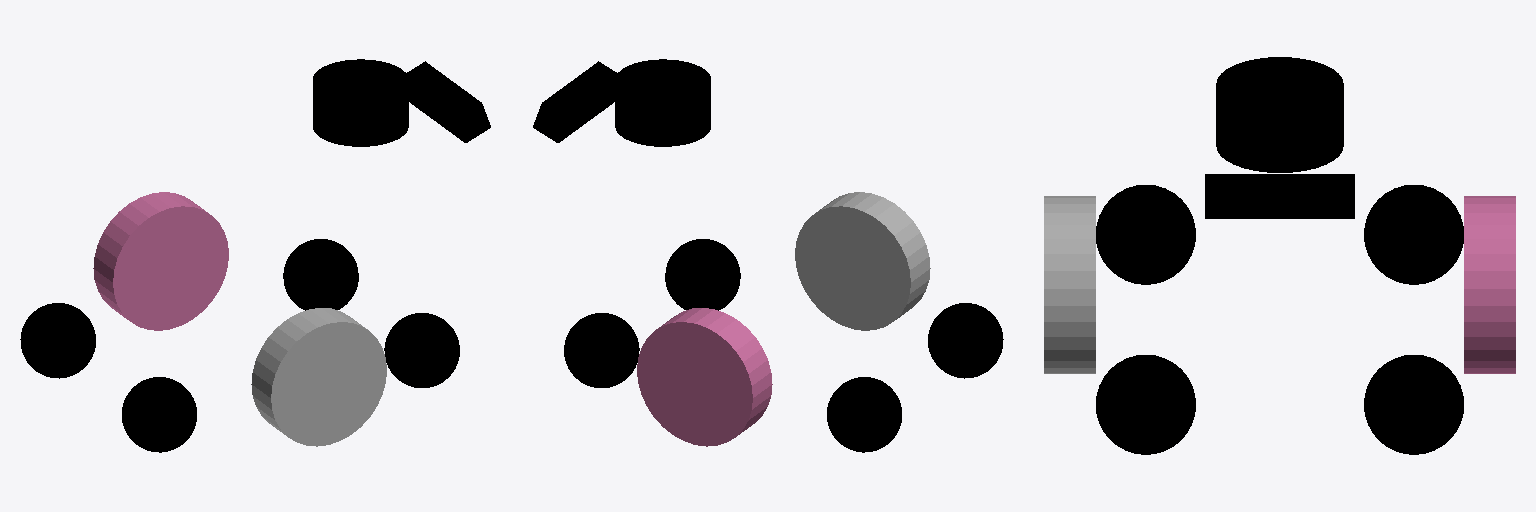
The robot description file, URDF, robot "qrb_robot_base_mini":
<?xml version="1.0" ?>
<!-- =================================================================================== -->
<!-- |    This document was autogenerated by xacro from /tmp/x.xacro                   | -->
<!-- |    EDITING THIS FILE BY HAND IS NOT RECOMMENDED                                 | -->
<!-- =================================================================================== -->
<!-- Qualcomm's QRB robot base mini (qrb_ros_simulation, BSD-3-Clause) for the MoveIt Pro Simulator.
     The Gazebo diff-drive and sensor blocks are replaced by MujocoSystem and diff_drive_controller. -->
<robot name="qrb_robot_base_mini">
  <mujoco>
    <option integrator="implicitfast"/>
    <compiler fusestatic="false" discardvisual="false"/>
  </mujoco>
  <material name="white">
    <color rgba="1 1 1 1"/>
  </material>
  <material name="black">
    <color rgba="0 0 0 1"/>
  </material>
  <material name="transparent">
    <color rgba="0 0 0 0"/>
  </material>
  <link name="base_footprint"/>
  <link name="base_link">
    <visual>
      <origin rpy="0 0 -1.5707963267948966" xyz="0 0 -0.07"/>
      <geometry>
        <mesh filename="package://qrb_amr_nav_sim/description/assets/wheelTec_AMR_mini.STL" scale="0.001 0.001 0.001"/>
      </geometry>
      <material name="white"/>
    </visual>
    <inertial name="base_link_inertial">
      <mass value="16.5"/>
      <inertia ixx="0.20886249999999998" ixy="0" ixz="0" iyy="0.20886249999999998" iyz="0" izz="0.36382499999999995"/>
    </inertial>
    <collision name="base_link_collision">
      <origin rpy="0 0 0" xyz="0 0 0"/>
      <geometry>
        <cylinder length="0.14" radius="0.21"/>
      </geometry>
    </collision>
  </link>
  <joint name="base_link_joint" type="fixed">
    <parent link="base_footprint"/>
    <child link="base_link"/>
    <origin xyz="0 0 0.101"/>
  </joint>
  <link name="laser">
    <visual>
      <origin rpy="0 0 3.141592653589793" xyz="0 0 0"/>
      <geometry>
        <cylinder length="0.041" radius="0.038"/>
      </geometry>
      <material name="transparent"/>
    </visual>
    <inertial>
      <mass value="0.3"/>
      <inertia ixx="0.00015032499999999998" ixy="0" ixz="0" iyy="0.00015032499999999998" iyz="0" izz="0.00021659999999999998"/>
    </inertial>
    <collision>
      <origin rpy="0 0 3.141592653589793" xyz="0 0 0"/>
      <geometry>
        <cylinder length="0.041" radius="0.038"/>
      </geometry>
    </collision>
  </link>
  <joint name="laser_joint" type="fixed">
    <parent link="base_link"/>
    <child link="laser"/>
    <origin rpy="0 0 0" xyz="0.11 0 0.11499999999999999"/>
  </joint>
  <link name="base_camera_link">
    <visual>
      <origin rpy="0 0 1.5707963267948966" xyz="0 0 0"/>
      <geometry>
        <box size="0.09 0.025 0.025"/>
      </geometry>
      <material name="transparent"/>
    </visual>
    <inertial>
      <mass value="0.01"/>
      <inertia ixx="1.0416666666666668e-05" ixy="0" ixz="0" iyy="7.270833333333333e-05" iyz="0" izz="7.270833333333333e-05"/>
    </inertial>
    <collision name="base_camera_link_collision">
      <origin rpy="0 0 0" xyz="0 0 1.5707963267948966"/>
      <geometry>
        <box size="0.09 0.025 0.025"/>
      </geometry>
    </collision>
  </link>
  <joint name="base_to_camera_joint" type="fixed">
    <origin rpy="0 -0.3490658503988659 0" xyz="0.18749999999999997 0 0.0975"/>
    <parent link="base_link"/>
    <child link="base_camera_link"/>
  </joint>
  <link name="base_camera_color_frame"/>
  <joint name="base_camera_color_frame_joint" type="fixed">
    <parent link="base_camera_link"/>
    <child link="base_camera_color_frame"/>
    <origin xyz="0 0 0"/>
  </joint>
  <link name="base_camera_depth_frame"/>
  <joint name="base_camera_depth_frame_joint" type="fixed">
    <parent link="base_camera_link"/>
    <child link="base_camera_depth_frame"/>
    <origin xyz="0 0 0"/>
  </joint>
  <!-- Wheel_left Link -->
  <link name="wheel_left">
    <inertial name="wheel_left_inertial">
      <mass value="1"/>
      <inertia ixx="0.0007823333333333333" ixy="0" ixz="0" iyy="0.0007823333333333333" iyz="0" izz="0.0014045"/>
    </inertial>
    <collision name="wheel_left_collision">
      <origin rpy="1.5707963267948966 0 0" xyz="0 0 0"/>
      <geometry>
        <cylinder length="0.031" radius="0.053"/>
      </geometry>
    </collision>
    <visual name="wheel_left_visual">
      <origin rpy="1.5707963267948966 0 0" xyz="0 0 0"/>
      <geometry>
        <cylinder length="0.031" radius="0.053"/>
      </geometry>
    </visual>
  </link>
  <!-- Wheel_right Link -->
  <link name="wheel_right">
    <inertial name="wheel_right_inertial">
      <mass value="1"/>
      <inertia ixx="0.0007823333333333333" ixy="0" ixz="0" iyy="0.0007823333333333333" iyz="0" izz="0.0014045"/>
    </inertial>
    <collision name="wheel_right_collision">
      <origin rpy="1.5707963267948966 0 0" xyz="0 0 0"/>
      <geometry>
        <cylinder length="0.031" radius="0.053"/>
      </geometry>
    </collision>
    <visual name="wheel_right_visual">
      <origin rpy="1.5707963267948966 0 0" xyz="0 0 0"/>
      <geometry>
        <cylinder length="0.031" radius="0.053"/>
      </geometry>
    </visual>
  </link>
  <!-- Wheel_left Joint Link -->
  <joint name="wheel_left_joint" type="continuous">
    <origin rpy="0 0 0" xyz="0 0.125 -0.04800000000000001"/>
    <child link="wheel_left"/>
    <parent link="base_link"/>
    <axis xyz="0 1 0"/>
  </joint>
  <!-- Wheel_right Joint Link -->
  <joint name="wheel_right_joint" type="continuous">
    <origin rpy="0 0 0" xyz="0 -0.125 -0.04800000000000001"/>
    <child link="wheel_right"/>
    <parent link="base_link"/>
    <axis xyz="0 1 0"/>
  </joint>
  <link name="caster_wheel_link1">
    <visual>
      <origin rpy="1.5707963267948966 0 0" xyz="0 0 0"/>
      <geometry>
        <sphere radius="0.03"/>
      </geometry>
      <material name="transparent"/>
    </visual>
    <collision>
      <origin rpy="1.5707963267948966 0 0" xyz="0 0 0"/>
      <geometry>
        <sphere radius="0.03"/>
      </geometry>
    </collision>
    <inertial>
      <mass value="0.3"/>
      <inertia ixx="0.000108" ixy="0" ixz="0" iyy="0.000108" iyz="0" izz="0.000108"/>
    </inertial>
  </link>
  <joint name="caster_wheel_joint1" type="continuous">
    <parent link="base_link"/>
    <child link="caster_wheel_link1"/>
    <origin xyz="0.12 0.08 -0.07100000000000001"/>
    <axis xyz="1 1 1"/>
  </joint>
  <link name="caster_wheel_link2">
    <visual>
      <origin rpy="1.5707963267948966 0 0" xyz="0 0 0"/>
      <geometry>
        <sphere radius="0.03"/>
      </geometry>
      <material name="transparent"/>
    </visual>
    <collision>
      <origin rpy="1.5707963267948966 0 0" xyz="0 0 0"/>
      <geometry>
        <sphere radius="0.03"/>
      </geometry>
    </collision>
    <inertial>
      <mass value="0.3"/>
      <inertia ixx="0.000108" ixy="0" ixz="0" iyy="0.000108" iyz="0" izz="0.000108"/>
    </inertial>
  </link>
  <joint name="caster_wheel_joint2" type="continuous">
    <parent link="base_link"/>
    <child link="caster_wheel_link2"/>
    <origin xyz="-0.12 0.08 -0.07100000000000001"/>
    <axis xyz="1 1 1"/>
  </joint>
  <link name="caster_wheel_link3">
    <visual>
      <origin rpy="1.5707963267948966 0 0" xyz="0 0 0"/>
      <geometry>
        <sphere radius="0.03"/>
      </geometry>
      <material name="transparent"/>
    </visual>
    <collision>
      <origin rpy="1.5707963267948966 0 0" xyz="0 0 0"/>
      <geometry>
        <sphere radius="0.03"/>
      </geometry>
    </collision>
    <inertial>
      <mass value="0.3"/>
      <inertia ixx="0.000108" ixy="0" ixz="0" iyy="0.000108" iyz="0" izz="0.000108"/>
    </inertial>
  </link>
  <joint name="caster_wheel_joint3" type="continuous">
    <parent link="base_link"/>
    <child link="caster_wheel_link3"/>
    <origin xyz="0.12 -0.08  -0.07100000000000001"/>
    <axis xyz="1 1 1"/>
  </joint>
  <link name="caster_wheel_link4">
    <visual>
      <origin rpy="1.5707963267948966 0 0" xyz="0 0 0"/>
      <geometry>
        <sphere radius="0.03"/>
      </geometry>
      <material name="transparent"/>
    </visual>
    <collision>
      <origin rpy="1.5707963267948966 0 0" xyz="0 0 0"/>
      <geometry>
        <sphere radius="0.03"/>
      </geometry>
    </collision>
    <inertial>
      <mass value="0.3"/>
      <inertia ixx="0.000108" ixy="0" ixz="0" iyy="0.000108" iyz="0" izz="0.000108"/>
    </inertial>
  </link>
  <joint name="caster_wheel_joint4" type="continuous">
    <parent link="base_link"/>
    <child link="caster_wheel_link4"/>
    <origin xyz="-0.12 -0.08  -0.07100000000000001"/>
    <axis xyz="1 1 1"/>
  </joint>
  <link name="base_imu_link">
    <inertial>
      <mass value="0.01"/>
      <inertia ixx="1.0" ixy="0" ixz="0" iyy="1.0" iyz="0" izz="1.0"/>
    </inertial>
  </link>
  <joint name="base_to_imu_joint" type="fixed">
    <origin xyz="0.0 0.0 0.0"/>
    <parent link="base_link"/>
    <child link="base_imu_link"/>
  </joint>
  <!-- Gazebo elements -->
  
  
  
  
  
</robot>

--- Facts derived from the render (not from the file) ---
The picture shows the robot from 3 angles, left to right: view 1: azimuth 30°, elevation 25°; view 2: azimuth 150°, elevation 25°; view 3: azimuth 270°, elevation 25°; orthographic projection.
Robot: qrb_robot_base_mini — 13 links, 12 joints (6 continuous, 6 fixed); root link base_footprint; default pose: all joints at 0.
Links seen in each view (by area): view 1: wheel_left, wheel_right, laser, caster_wheel_link2, caster_wheel_link4, caster_wheel_link3, caster_wheel_link1, base_camera_link; view 2: wheel_right, wheel_left, laser, caster_wheel_link4, caster_wheel_link2, caster_wheel_link1, caster_wheel_link3, base_camera_link; view 3: laser, wheel_left, wheel_right, caster_wheel_link1, caster_wheel_link2, caster_wheel_link3, caster_wheel_link4, base_camera_link.
Link boxes in pixels (x1,y1,x2,y2): wheel_left: [93, 192, 228, 330]; wheel_right: [251, 308, 386, 446]; laser: [313, 59, 408, 146]; caster_wheel_link2: [20, 303, 95, 378]; caster_wheel_link4: [122, 377, 196, 452]; caster_wheel_link3: [384, 313, 459, 387]; caster_wheel_link1: [283, 239, 358, 310]; base_camera_link: [406, 61, 490, 142]; wheel_right: [795, 192, 930, 330]; wheel_left: [637, 308, 772, 446]; laser: [615, 59, 710, 146]; caster_wheel_link4: [928, 303, 1003, 378]; caster_wheel_link2: [827, 377, 901, 452]; caster_wheel_link1: [564, 313, 639, 387]; caster_wheel_link3: [665, 239, 740, 310]; base_camera_link: [533, 61, 617, 142]; laser: [1216, 57, 1343, 172]; wheel_left: [1464, 196, 1515, 373]; wheel_right: [1044, 196, 1095, 373]; caster_wheel_link1: [1364, 355, 1463, 454]; caster_wheel_link2: [1364, 185, 1463, 284]; caster_wheel_link3: [1096, 355, 1195, 454]; caster_wheel_link4: [1096, 185, 1195, 284]; base_camera_link: [1205, 174, 1354, 218].
Size in the robot's own frame: 0.3535 by 0.281 by 0.2365 metres.
Meshes: 1 distinct files referenced, 0 mesh visuals loaded (none loaded); not drawn: 1 (reference not matched to a file when rendering).
